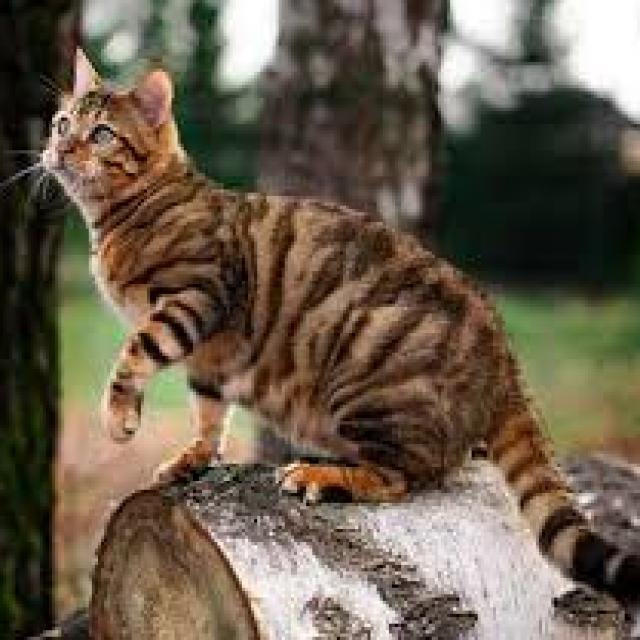Toyger: (40, 46, 640, 594)
